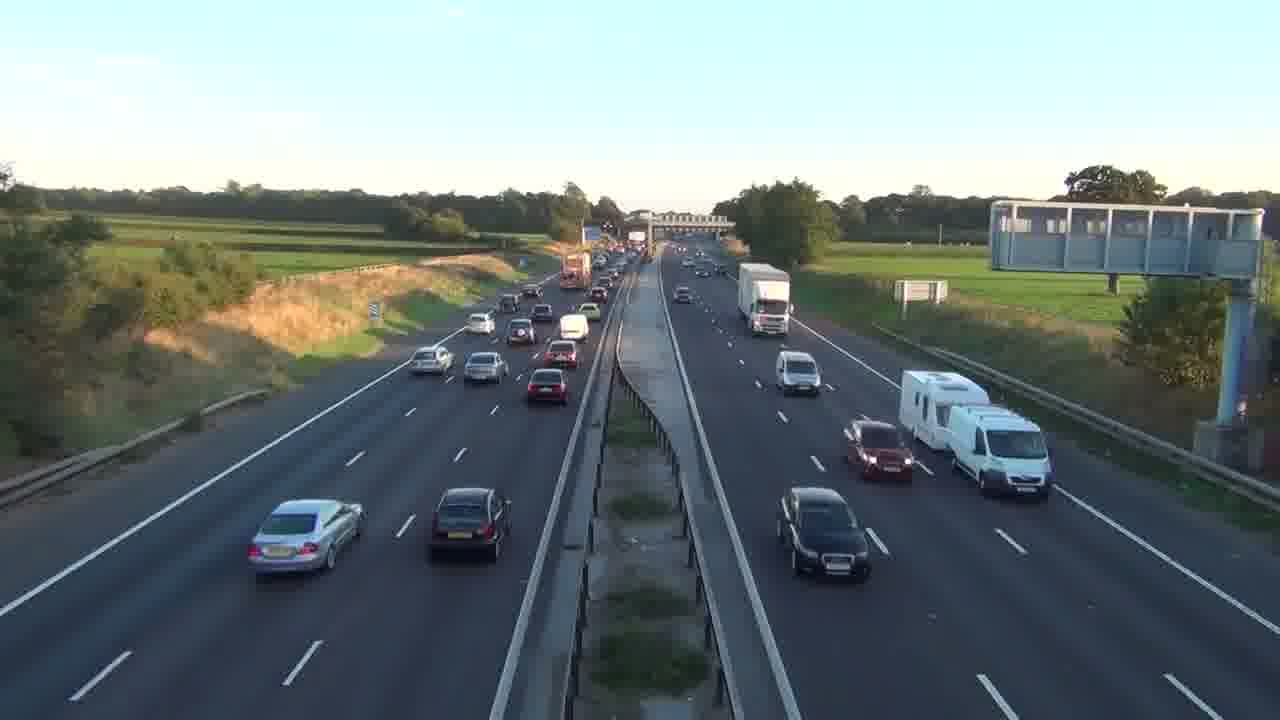car: (246, 497, 365, 579), (429, 486, 514, 561), (842, 416, 914, 482), (775, 349, 822, 396), (526, 367, 568, 405), (463, 350, 507, 385), (543, 339, 581, 370)
truck: (946, 404, 1053, 501), (897, 369, 991, 451), (737, 261, 792, 336)
